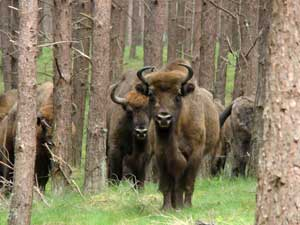zubr: (132, 45, 230, 214)
